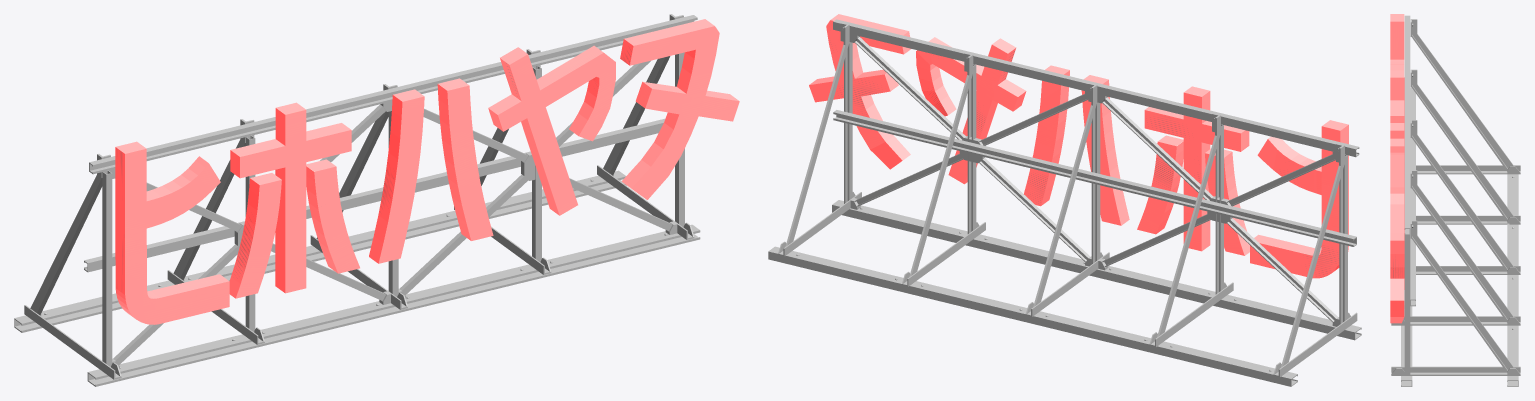
File: KB3D_CBP_NeonSign_M.fbx
3 views of the same model, side by side, from view 1: azimuth 30°, elevation 25°; view 2: azimuth 150°, elevation 25°; view 3: azimuth 270°, elevation 25° (orthographic). The views are drawn at different scales.
Visible parts, largest first — view 1: KB3D_CBP_NeonSign_M_Main; view 2: KB3D_CBP_NeonSign_M_Main; view 3: KB3D_CBP_NeonSign_M_Main.
Boxes of the visible parts, x1,y1,x2,y2 form: KB3D_CBP_NeonSign_M_Main: (14,14,739,386); KB3D_CBP_NeonSign_M_Main: (768,14,1361,386); KB3D_CBP_NeonSign_M_Main: (1390,14,1520,386).
Bounding box in the file's own units: 883 × 310 × 216.
